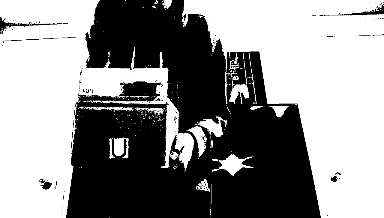U: (109, 138, 128, 158)
